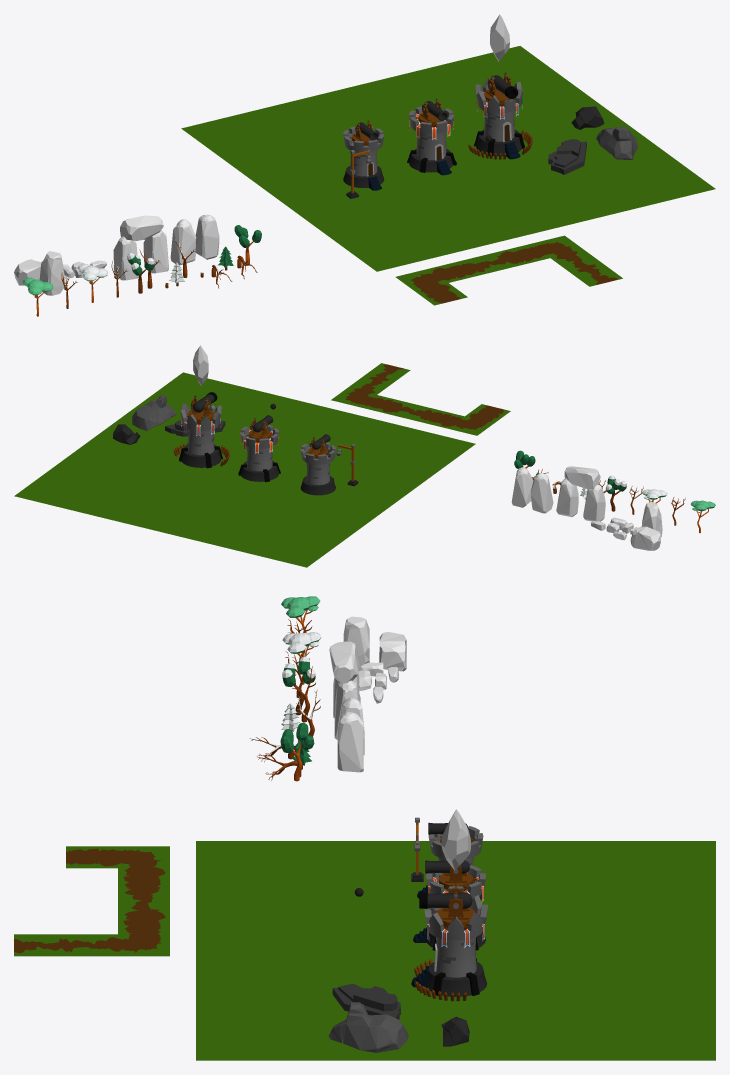
The picture shows the model from 3 angles, top to bottom: view 1: azimuth 30°, elevation 25°; view 2: azimuth 150°, elevation 25°; view 3: azimuth 270°, elevation 25°; orthographic projection. The views are drawn at different scales.
Parts seen in each view (by area): view 1: Plane, Tower Lvl 3, Tower Lvl 2, Tower Lvl 1, Cube.003, Plane.001, Cube.028, Cube.027, Cube.026, Cube.023, Cube.025, Cube.024 (+13 smaller); view 2: Plane, Tower Lvl 3, Tower Lvl 2, Tower Lvl 1, Cube.003, Cube.028, Cube.024, Cube.025, Cube.027, Cube.026, Cube.022, Gun.002 (+12 smaller); view 3: Plane, Tower Lvl 3, Cube.003, Plane.001, Cube.027, Gun.002, Cube.006, Plane.002, Plane.003, Plane.004, Plane.005, Plane.006 (+11 smaller).
Boxes of the visible parts, <box> form: Plane: <box>181,46,715,271</box>; Tower Lvl 3: <box>468,78,532,159</box>; Tower Lvl 2: <box>407,106,456,175</box>; Tower Lvl 1: <box>343,125,384,190</box>; Cube.003: <box>596,126,637,159</box>; Plane.001: <box>548,139,586,174</box>; Cube.028: <box>170,219,196,265</box>; Cube.027: <box>195,214,219,259</box>; Cube.026: <box>120,215,163,240</box>; Cube.023: <box>39,251,65,295</box>; Cube.025: <box>143,230,168,273</box>; Cube.024: <box>113,236,138,280</box>; Plane: <box>14,372,475,567</box>; Tower Lvl 3: <box>173,401,229,468</box>; Tower Lvl 2: <box>238,425,280,482</box>; Tower Lvl 1: <box>300,442,335,495</box>; Cube.003: <box>132,395,176,430</box>; Cube.028: <box>531,473,553,513</box>; Cube.024: <box>583,484,605,521</box>; Cube.025: <box>556,479,578,516</box>; Cube.027: <box>511,467,533,507</box>; Cube.026: <box>564,466,600,489</box>; Cube.022: <box>630,526,660,550</box>; Gun.002: <box>186,392,217,424</box>; Plane: <box>196,841,715,1060</box>; Tower Lvl 3: <box>411,895,488,1001</box>; Cube.003: <box>328,1002,408,1052</box>; Plane.001: <box>332,983,400,1019</box>; Cube.027: <box>337,712,363,772</box>; Gun.002: <box>419,883,479,929</box>; Cube.006: <box>441,809,470,870</box>; Plane.002: <box>118,868,169,890</box>; Plane.003: <box>118,890,169,912</box>; Plane.004: <box>118,846,169,868</box>; Plane.005: <box>118,912,169,934</box>; Plane.006: <box>66,846,117,868</box>.
Bounding box in the file's own units: 7685 × 1535 × 5400.
